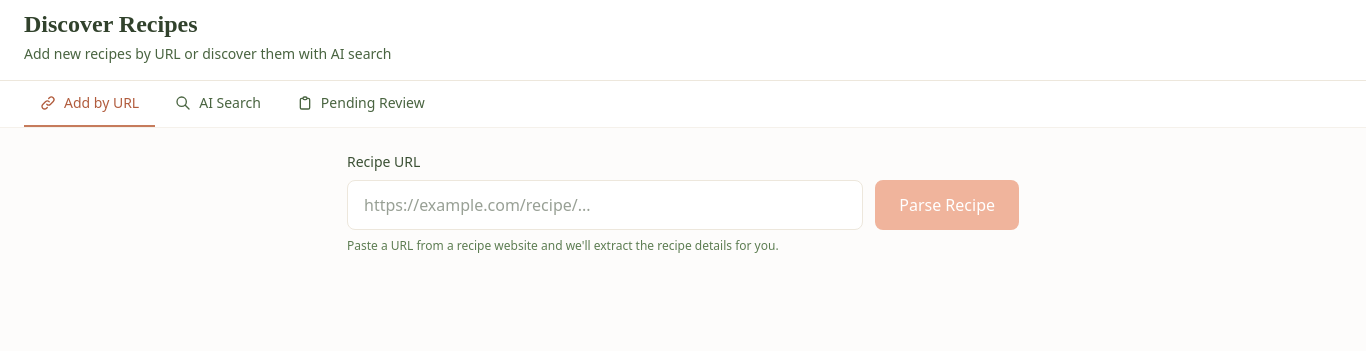
Test: DiscoverPage › URL Parser › displays error message on parse failure
The image size is (1366, 351).
Type "https://invalid-url.com" into the field with placeholder "https://example.com/recipe/..." at (605, 205), box [347,180,863,230]
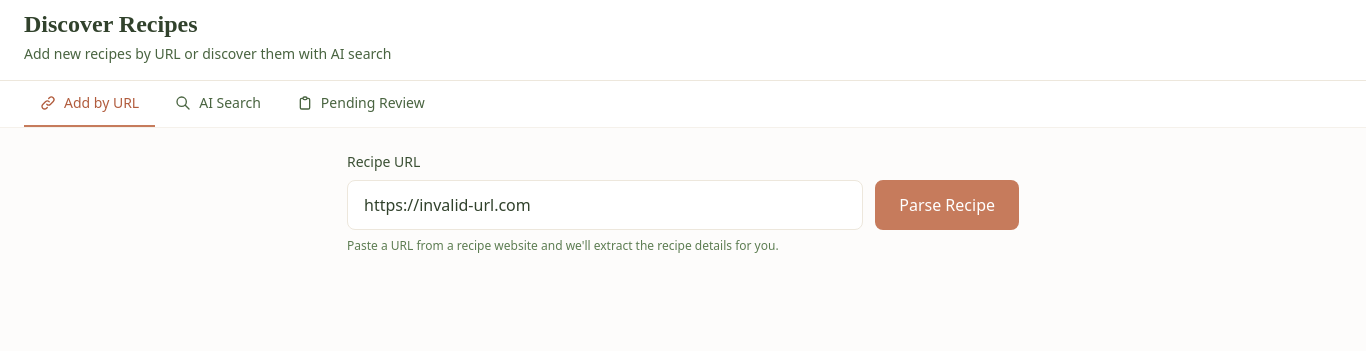
Click the button "Parse Recipe" at (947, 205), box [875,180,1019,230]
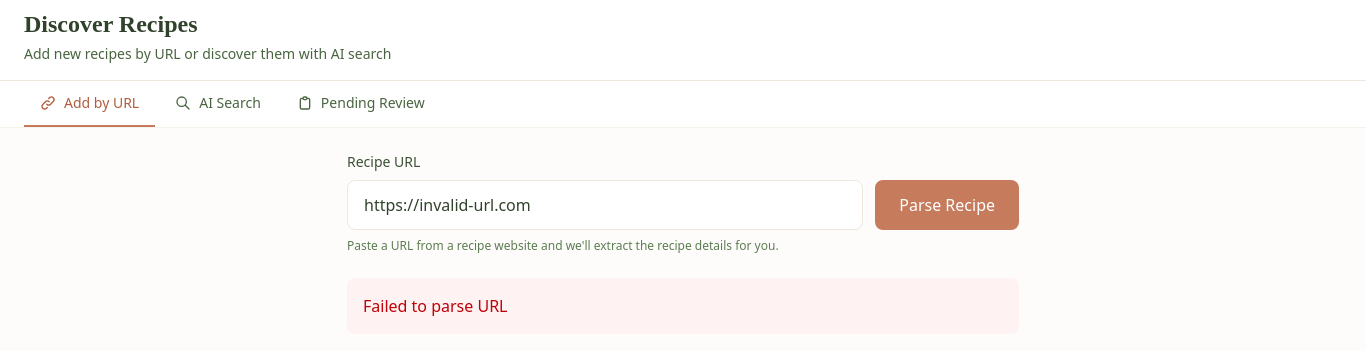
Now the text "Failed to parse URL" is shown, box [347,278,1019,334]
